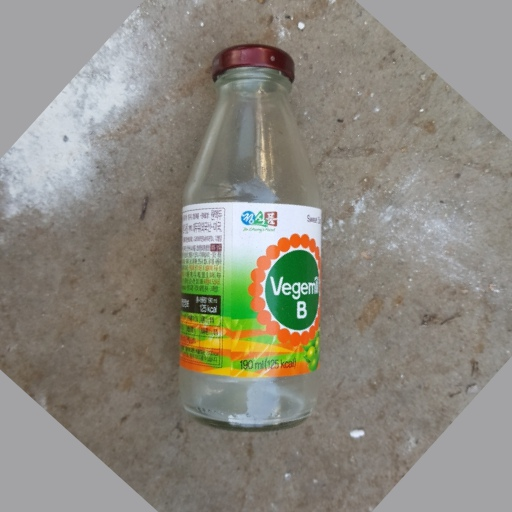Glass_4: (174, 44, 326, 430)
